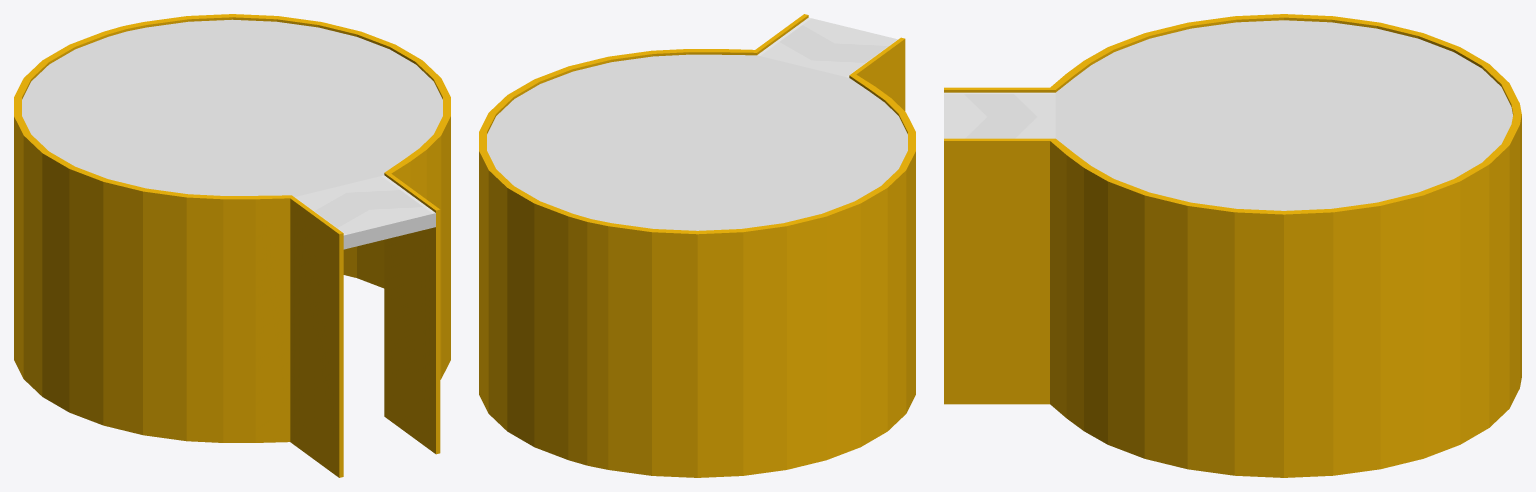
The model's file is Abstract_Path_Round (5).fbx.
The picture shows the model from 3 angles, left to right: view 1: azimuth 30°, elevation 25°; view 2: azimuth 150°, elevation 25°; view 3: azimuth 270°, elevation 25°; orthographic projection. The views are drawn at different scales.
Parts seen in each view (by area): view 1: Abstract_Path_Round; view 2: Abstract_Path_Round; view 3: Abstract_Path_Round.
Part boxes in pixels (x1,y1,x2,y2): Abstract_Path_Round: (14, 14, 450, 477); Abstract_Path_Round: (479, 14, 915, 477); Abstract_Path_Round: (944, 14, 1521, 477).
Bounding box in the file's own units: 754 × 462 × 918.
2 materials, 2 textured.
